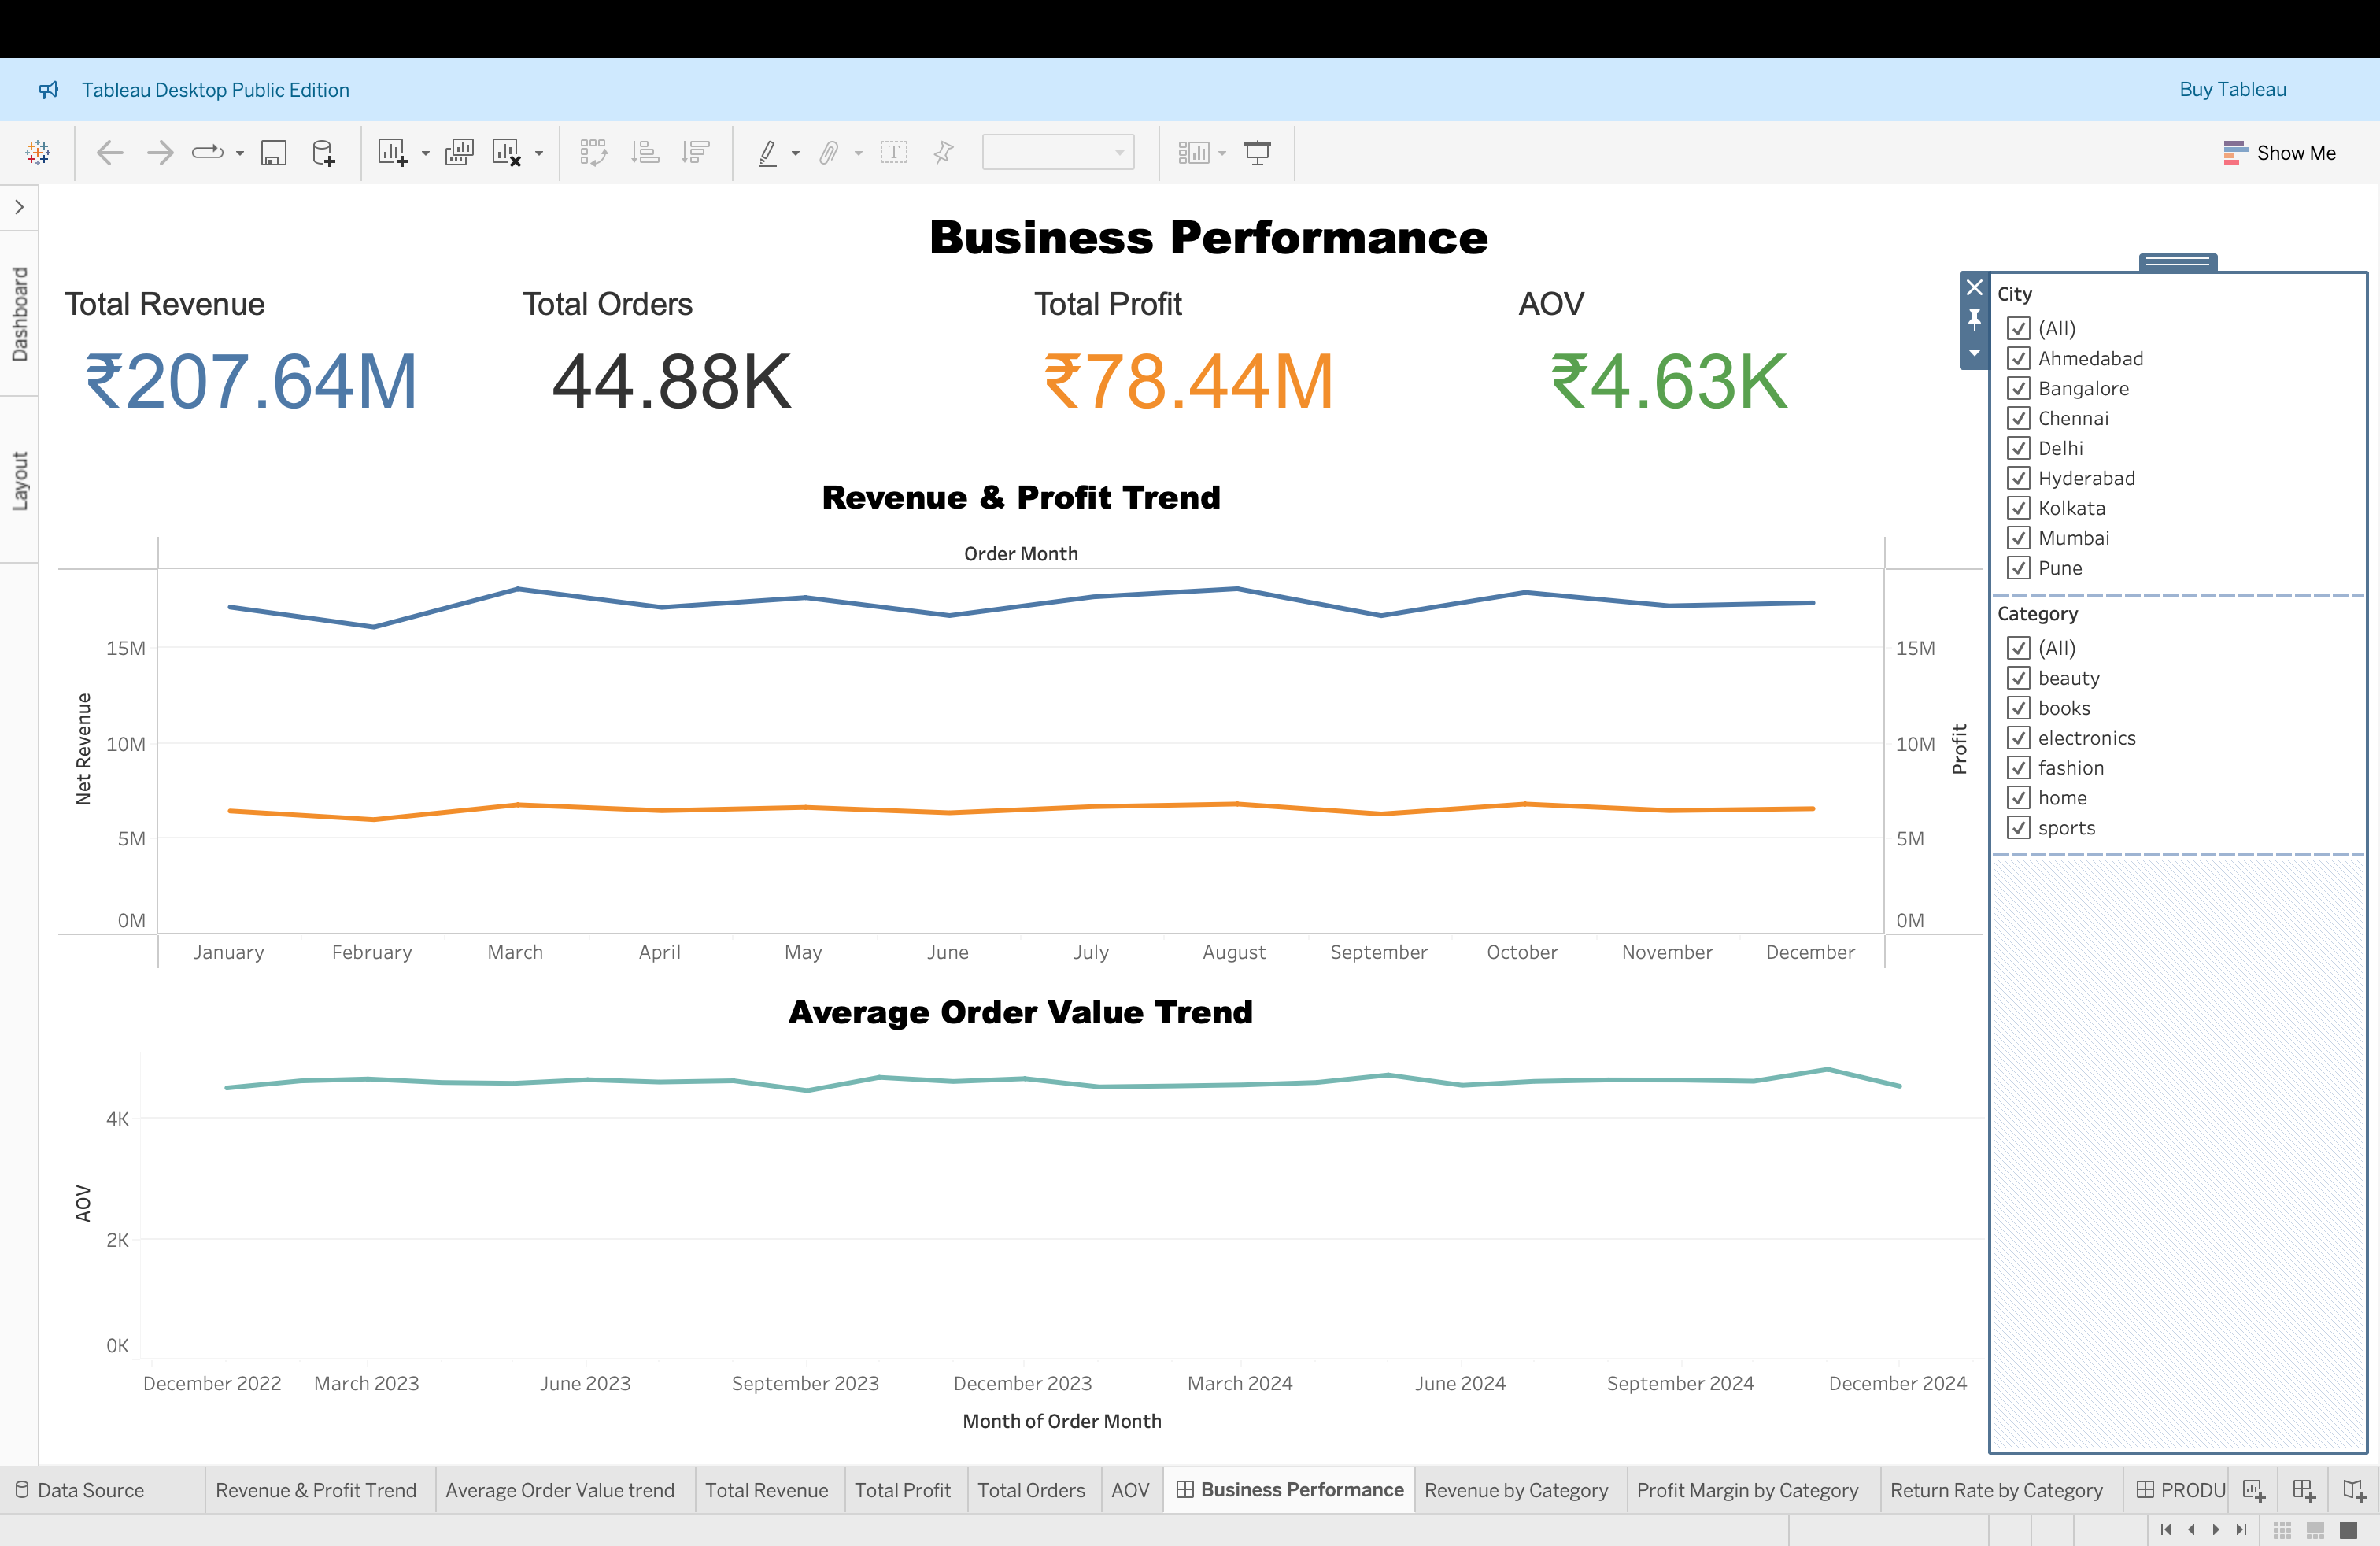

What the dashboard file says about the page in this screenshot:
{"tool":"tableau","page":{"name":"Business Performance","canvas":[1000,1000],"units":"permille","ordinal":0},"visuals":[{"type":"title","box":[6.1,9.8,987.7,60.3]},{"type":"worksheet","title":"Total Revenue","mark":"Text","box":[6.1,70.1,190.1,146.6]},{"type":"worksheet","title":"Total Orders","mark":"Automatic","box":[196.2,70.1,212.4,146.6]},{"type":"worksheet","title":"Total Profit","mark":"Text","box":[408.7,70.1,201.3,146.6]},{"type":"worksheet","title":"AOV","mark":"Automatic","box":[609.9,70.1,201.3,146.6]},{"type":"filter","title":"Revenue & Profit Trend","param":"[federated.0569gdy05yt2mz181q52411hjp95].[none:city:nk]","box":[811.2,70.1,182.7,249.7]},{"type":"worksheet","title":"Revenue & Profit Trend","mark":"Automatic","rows":["net_revenue","profit"],"cols":["order_month"],"box":[6.1,216.7,805.1,401.7]},{"type":"filter","title":"Average Order Value trend","param":"[federated.0569gdy05yt2mz181q52411hjp95].[none:category:nk]","box":[811.2,319.8,182.7,203]},{"type":"worksheet","title":"Average Order Value trend","mark":"Automatic","rows":["Calculation_6635736921223168"],"cols":["order_month"],"box":[6.1,618.5,805.1,371.7]}]}

Visuals, with their boxes on the dashboard's canvas, which has no fixed pixel size, in thousandths of its width and height (x1, y1, x2, y2). These are canvas units, not pixel positions in the 2380x1546 screenshot, which may show the page scaled, cropped or inside an application window:
title: [x1=6, y1=10, x2=994, y2=70]
"Total Revenue" worksheet (Text marks): [x1=6, y1=70, x2=196, y2=217]
"Total Orders" worksheet: [x1=196, y1=70, x2=409, y2=217]
"Total Profit" worksheet (Text marks): [x1=409, y1=70, x2=610, y2=217]
"AOV" worksheet: [x1=610, y1=70, x2=811, y2=217]
"Revenue & Profit Trend" filter: [x1=811, y1=70, x2=994, y2=320]
"Revenue & Profit Trend" worksheet: [x1=6, y1=217, x2=811, y2=618]
"Average Order Value trend" filter: [x1=811, y1=320, x2=994, y2=523]
"Average Order Value trend" worksheet: [x1=6, y1=618, x2=811, y2=990]
